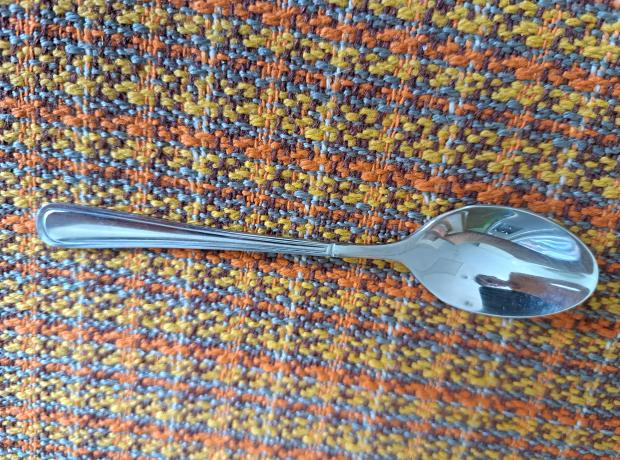metal: (35, 197, 614, 319)
